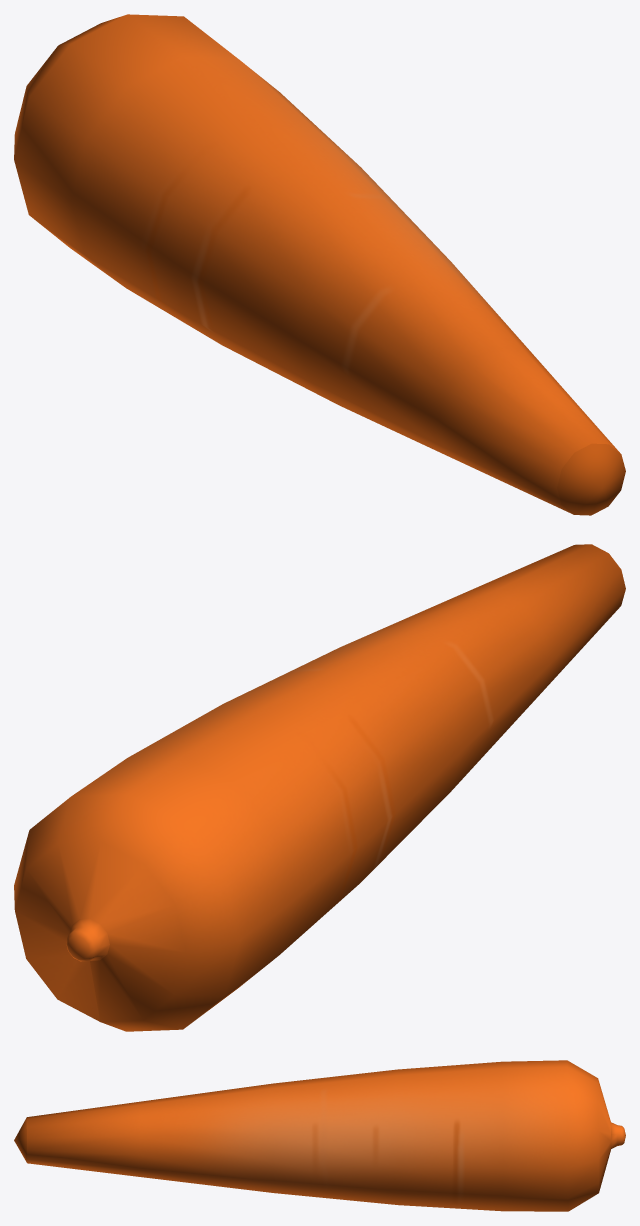
The model's file is carrot.FBX.
The picture shows the model from 3 angles, top to bottom: view 1: azimuth 30°, elevation 25°; view 2: azimuth 150°, elevation 25°; view 3: azimuth 270°, elevation 25°; orthographic projection. The views are drawn at different scales.
Parts seen in each view (by area): view 1: Cylinder001; view 2: Cylinder001; view 3: Cylinder001.
Part boxes in pixels (bbox=[...]): Cylinder001: bbox=[14, 14, 625, 515]; Cylinder001: bbox=[14, 544, 625, 1031]; Cylinder001: bbox=[14, 1060, 625, 1211].
Bounding box in the file's own units: 3.81 × 3.81 × 15.34.
